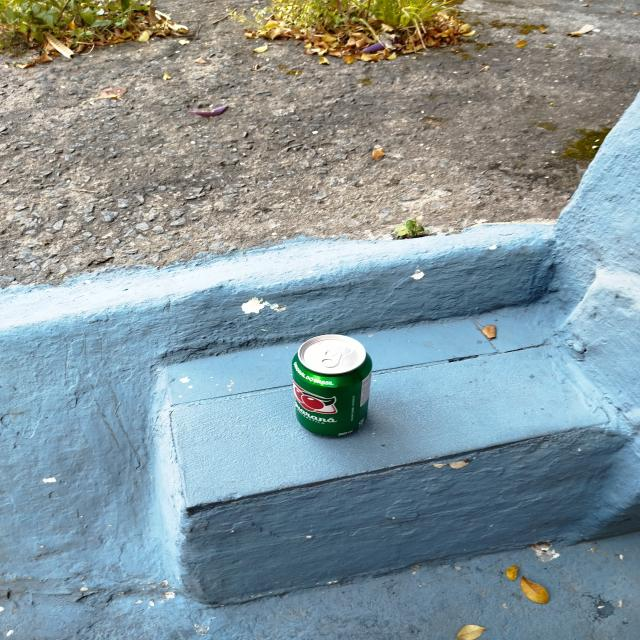Guarana: (290, 334, 371, 438)
